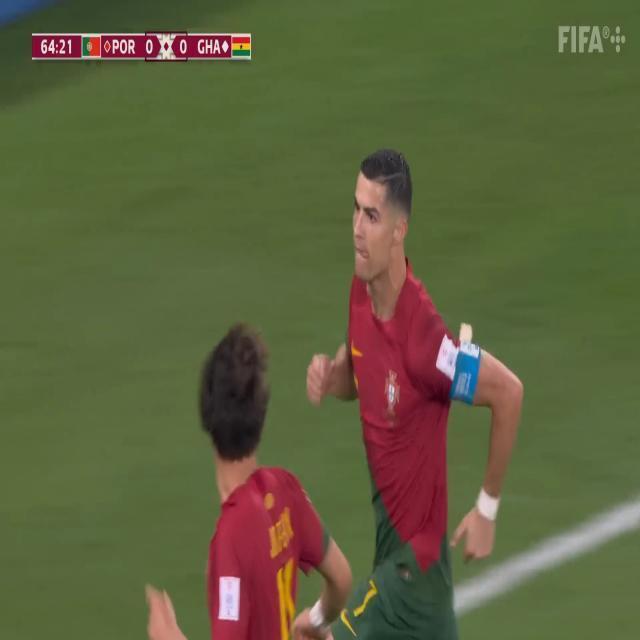player: (305, 143, 524, 640), (145, 324, 350, 640)
